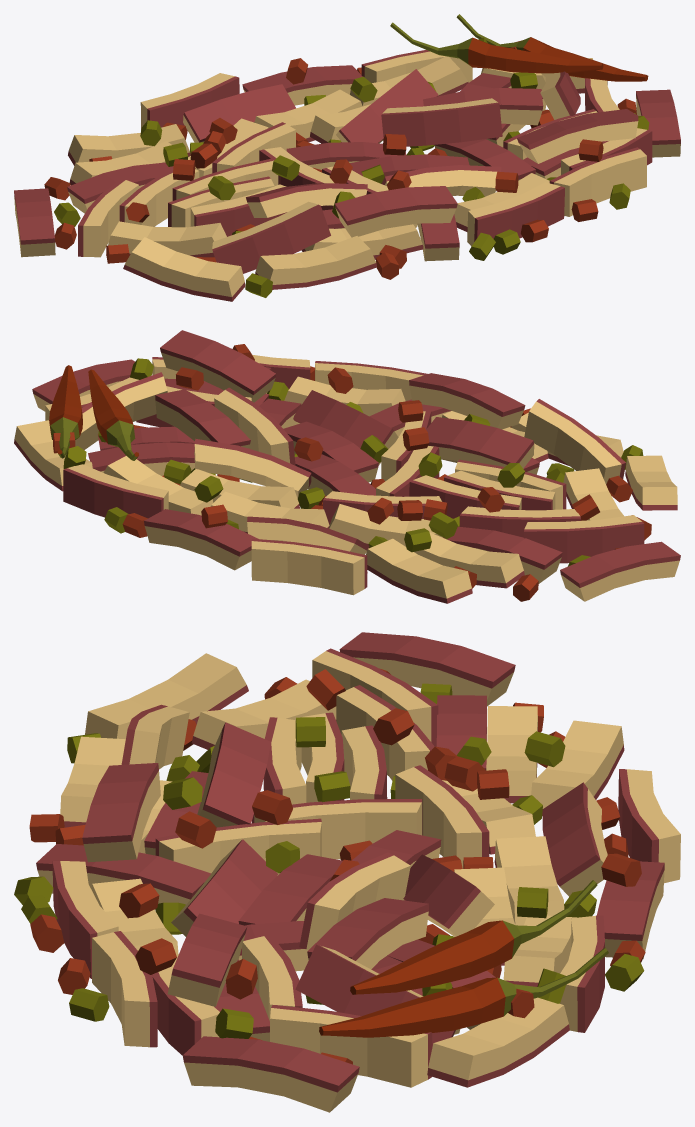
The model's file is Squid sisig.fbx.
3 views of the same model, one above another, from view 1: azimuth 30°, elevation 25°; view 2: azimuth 150°, elevation 25°; view 3: azimuth 270°, elevation 25° (orthographic). The views are drawn at different scales.
Visible parts, largest first — view 1: Squid Sisig; view 2: Squid Sisig; view 3: Squid Sisig.
Boxes of the visible parts, <box> form: Squid Sisig: <box>14,14,680,301</box>; Squid Sisig: <box>14,330,680,603</box>; Squid Sisig: <box>14,632,680,1112</box>.
Bounding box in the file's own units: 116 × 12.56 × 71.93.
